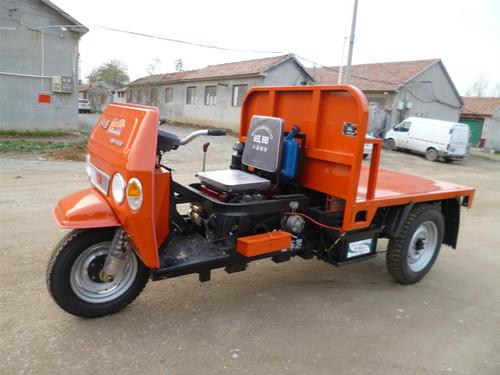empty: (48, 61, 484, 324)
